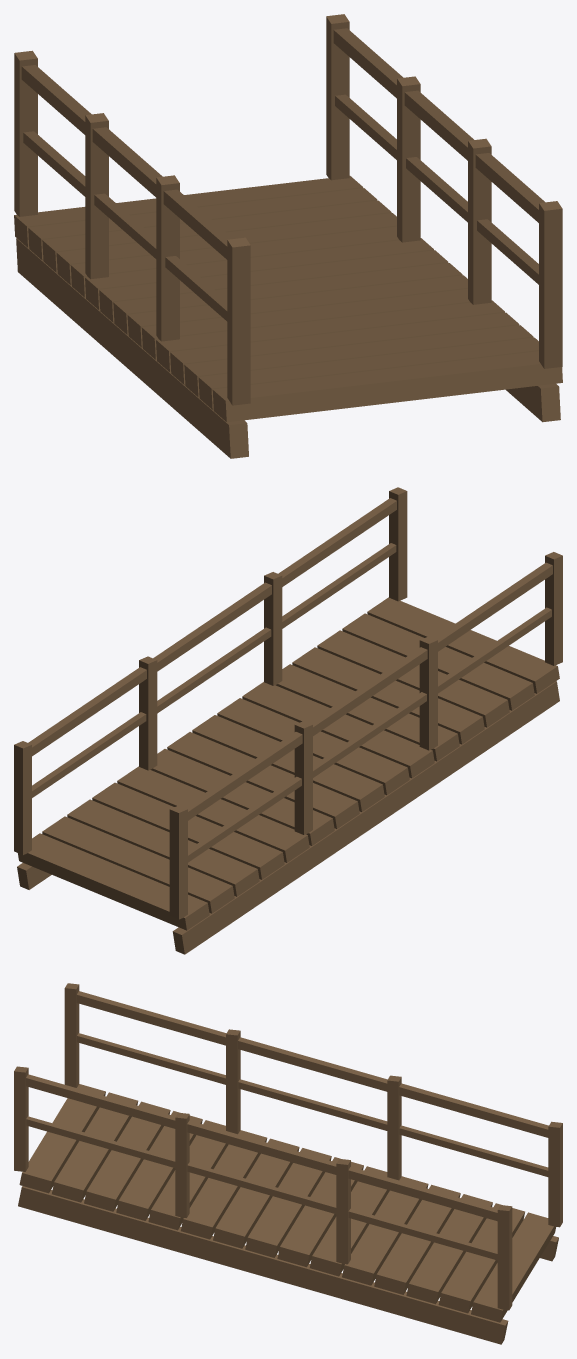
The model's file is 1-gangway.glb.
The picture shows the model from 3 angles, top to bottom: view 1: azimuth 30°, elevation 25°; view 2: azimuth 150°, elevation 25°; view 3: azimuth 270°, elevation 25°; orthographic projection. The views are drawn at different scales.
Parts seen in each view (by area): view 1: gangway; view 2: gangway; view 3: gangway.
Part boxes in pixels (x1,y1,x2,y2): gangway: (14, 14, 562, 458); gangway: (14, 487, 562, 954); gangway: (14, 983, 562, 1344).
Size of the model in its own units: 3.38 by 2.44 by 5.51.
